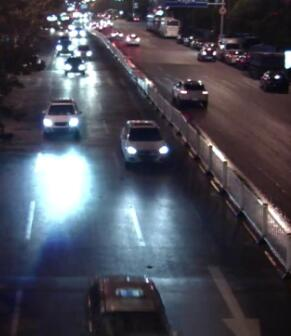bus: (157, 16, 180, 36)
car: (76, 273, 173, 334), (119, 118, 172, 167), (39, 95, 83, 141), (168, 76, 210, 109), (257, 65, 290, 96), (61, 52, 88, 77), (195, 41, 219, 65), (54, 35, 75, 56), (218, 36, 238, 57), (123, 29, 143, 47), (72, 44, 93, 59), (108, 24, 128, 39), (226, 47, 246, 61)
